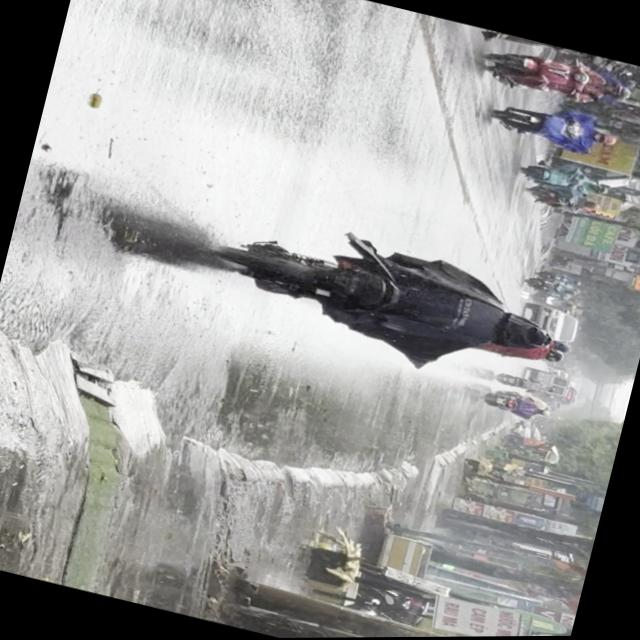helmet: (492, 309, 559, 360), (604, 82, 634, 101), (595, 129, 619, 147)
licenseplate: (197, 202, 568, 395), (476, 38, 638, 117), (443, 17, 640, 77), (486, 92, 624, 161)
